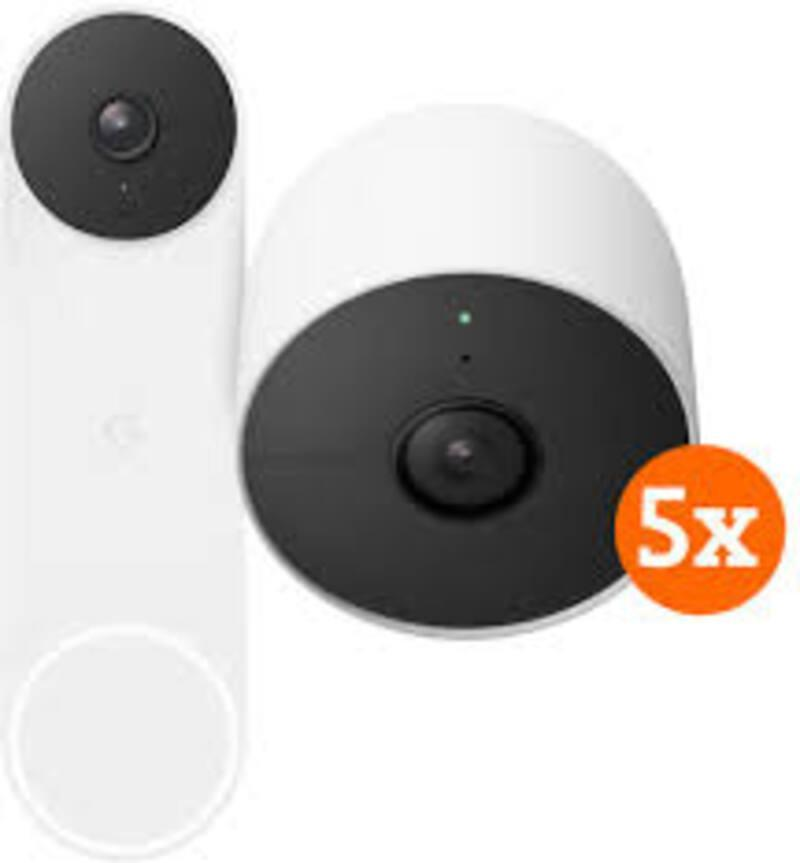doorbell: (8, 17, 254, 861)
nest: (242, 105, 734, 651)
